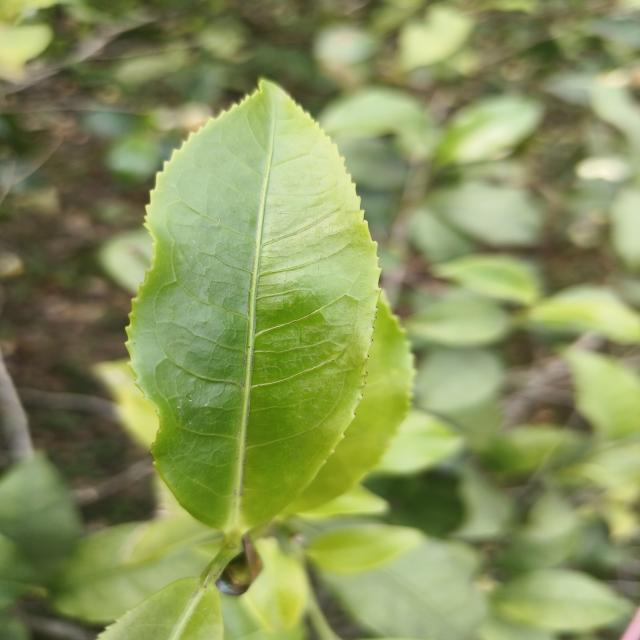Leaf: (128, 81, 379, 537), (289, 291, 415, 512), (52, 503, 219, 623), (320, 538, 487, 640), (0, 452, 82, 584), (492, 569, 630, 632), (319, 86, 435, 159), (97, 577, 223, 640), (436, 95, 541, 164), (564, 348, 640, 439), (531, 286, 640, 342), (306, 524, 425, 573), (374, 410, 462, 475), (432, 254, 540, 305), (406, 295, 510, 347)
